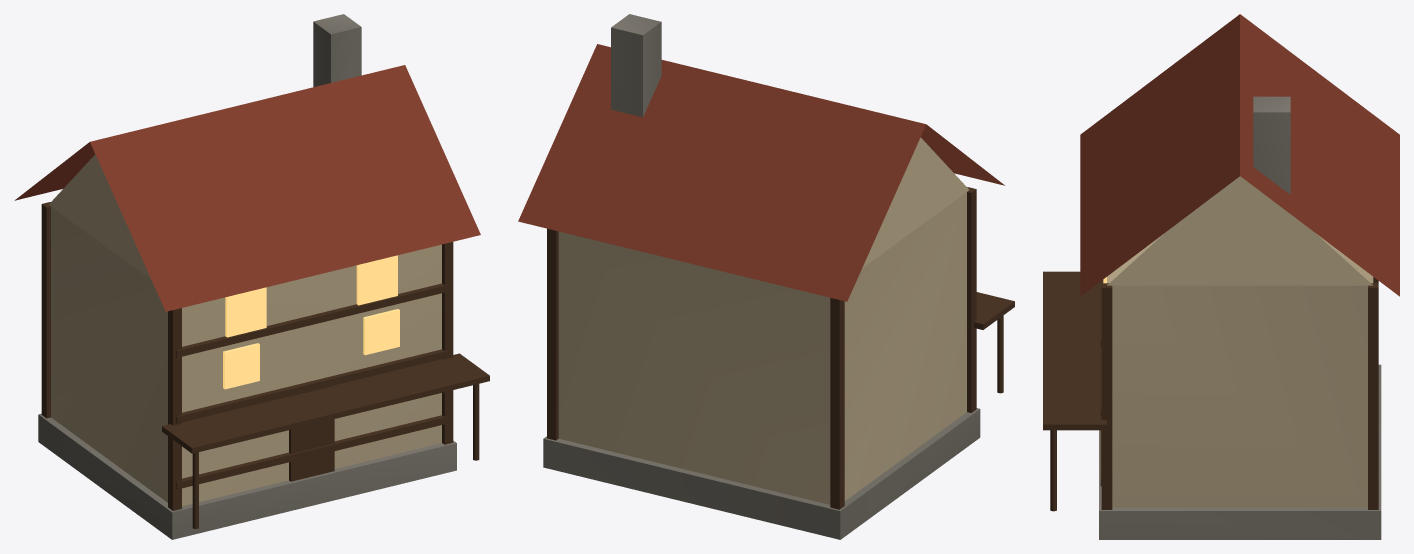
File: casa_b.glb
The picture shows the model from 3 angles, left to right: view 1: azimuth 30°, elevation 25°; view 2: azimuth 150°, elevation 25°; view 3: azimuth 270°, elevation 25°; orthographic projection. The views are drawn at different scales.
Visible parts, largest first — view 1: Prop; view 2: Prop; view 3: Prop.
Part boxes in pixels (left/top/right/bottom): Prop: left=14, top=14, right=489, bottom=539; Prop: left=518, top=14, right=1014, bottom=539; Prop: left=1043, top=14, right=1399, bottom=539.
Bounding box in the file's own units: 7.2 × 8.62 × 6.7.
